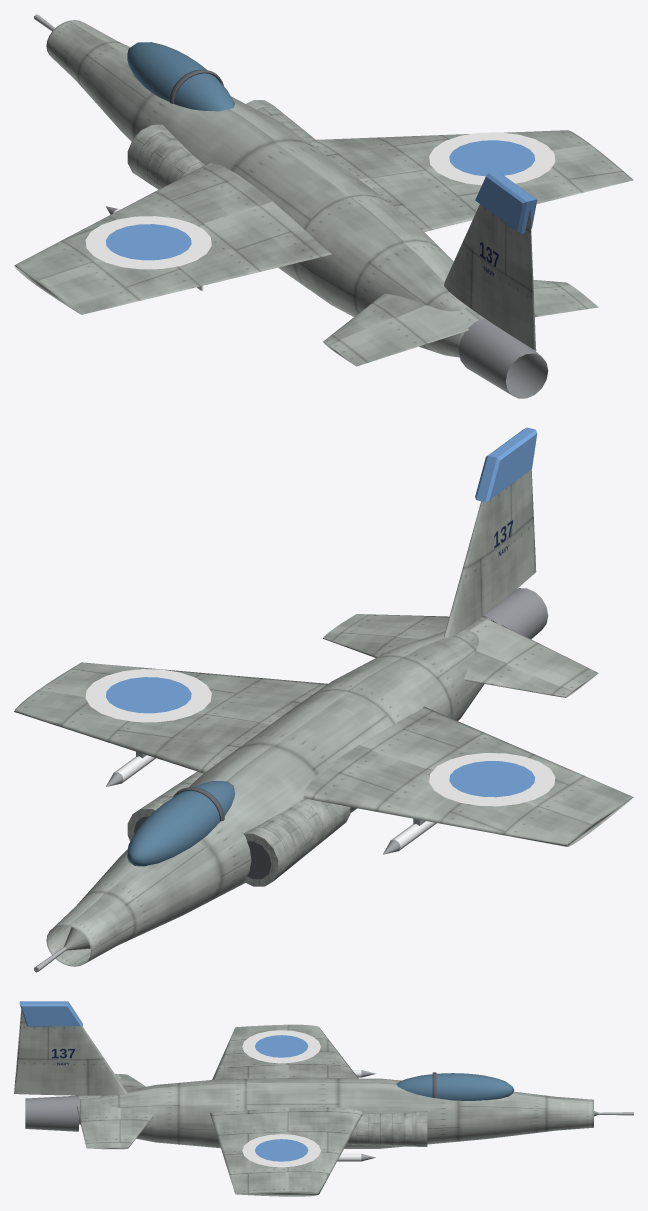
The picture shows the model from 3 angles, top to bottom: view 1: azimuth 30°, elevation 25°; view 2: azimuth 150°, elevation 25°; view 3: azimuth 270°, elevation 25°; orthographic projection. The views are drawn at different scales.
Visible parts, largest first — view 1: detail (×5), part (×5); view 2: detail (×5), part (×7); view 3: detail (×5), part (×5).
Part boxes in pixels (left/top/right/bottom): detail (×5): left=14, top=20, right=633, bottom=366; part (×5): left=85, top=42, right=555, bottom=398; detail (×5): left=14, top=469, right=633, bottom=966; part (×7): left=85, top=427, right=555, bottom=879; detail (×5): left=14, top=1009, right=593, bottom=1196; part (×5): left=19, top=1001, right=514, bottom=1167.
Bounding box in the file's own units: 10.38 × 4.11 × 16.25.
14 materials, 3 textured.
